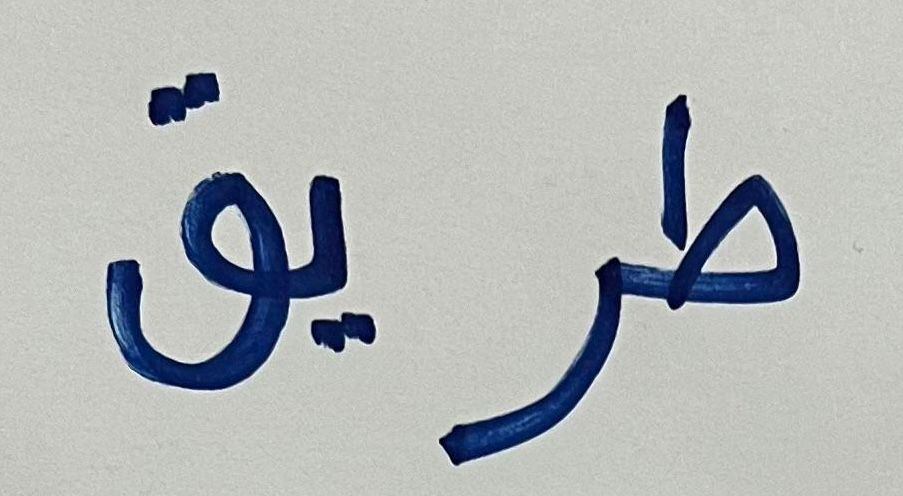qaf: (65, 54, 290, 419)
reh: (419, 212, 634, 475)
tah: (637, 72, 817, 342)
yeh: (294, 136, 397, 388)
